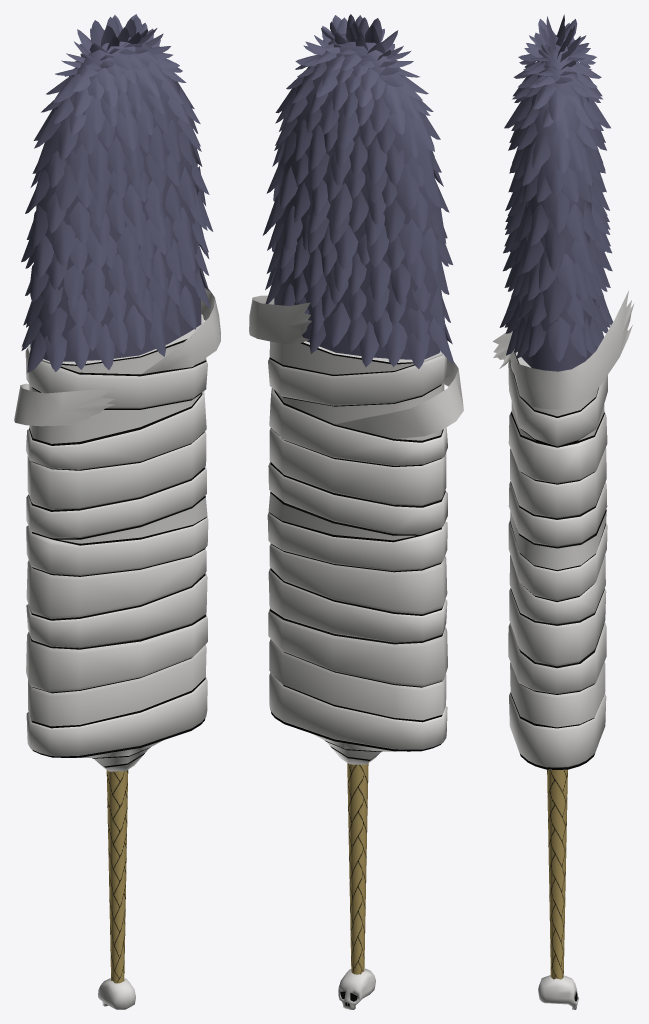
File: Samehada.fbx
The picture shows the model from 3 angles, left to right: view 1: azimuth 30°, elevation 25°; view 2: azimuth 150°, elevation 25°; view 3: azimuth 270°, elevation 25°; orthographic projection.
Visible parts, largest first — view 1: SM_WEP_Samehada.001; view 2: SM_WEP_Samehada.001; view 3: SM_WEP_Samehada.001.
Boxes of the visible parts, <box> form: SM_WEP_Samehada.001: <box>14,14,220,1009</box>; SM_WEP_Samehada.001: <box>249,14,463,1009</box>; SM_WEP_Samehada.001: <box>493,14,634,1009</box>.
Bounding box in the file's own units: 4750 × 22101 × 2892.
